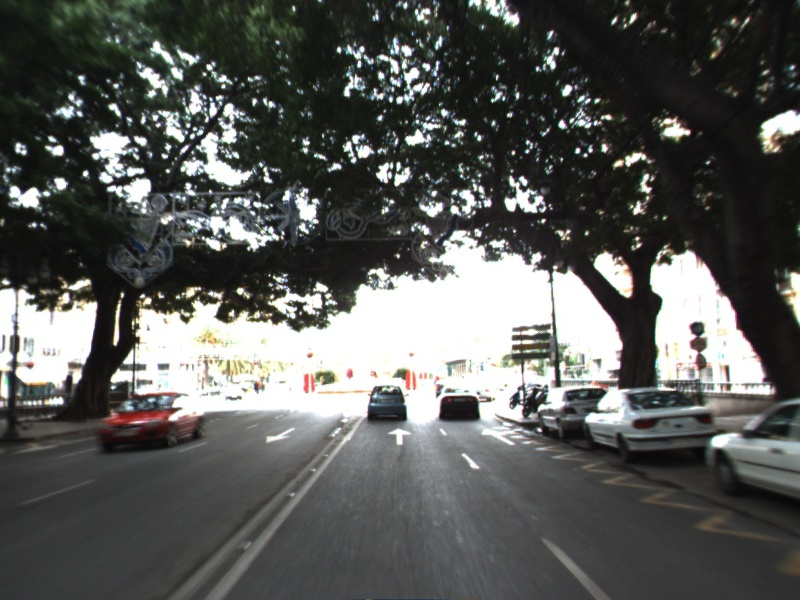STRAIGHT: (479, 426, 518, 447), (385, 426, 414, 446)
